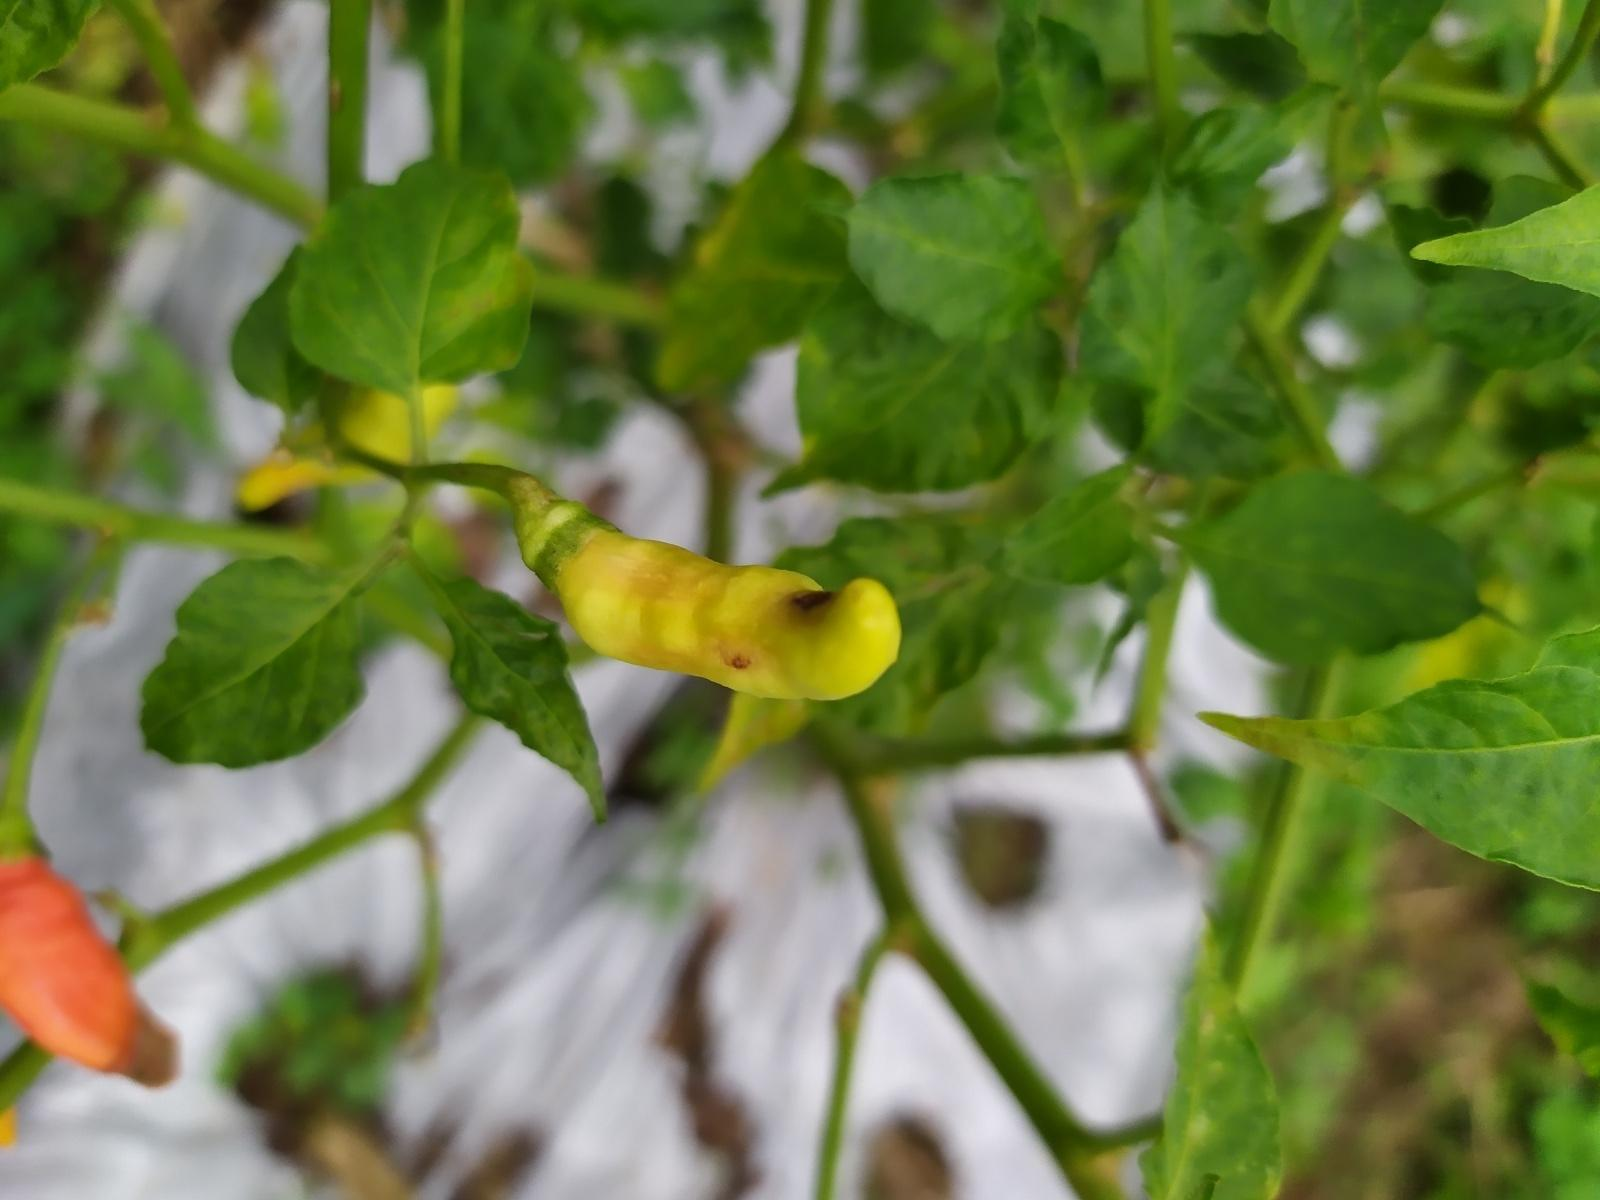antraknosa: (5, 850, 175, 1087)
lalat_buah: (553, 529, 903, 703)
